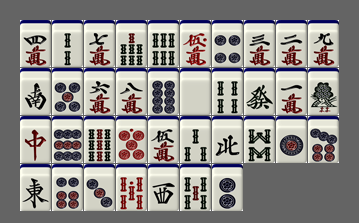0m: (180, 20, 211, 67)
0p: (116, 116, 147, 163)
0s: (116, 164, 147, 211)
1m: (276, 68, 307, 115)
1p: (276, 116, 307, 163)
1s: (308, 68, 339, 115)
1z: (20, 164, 51, 211)
2m: (276, 20, 307, 67)
2p: (212, 164, 243, 211)
2s: (52, 20, 83, 67)
2z: (20, 68, 51, 115)
3m: (244, 20, 275, 67)
3p: (84, 164, 115, 211)
3s: (180, 116, 211, 163)
3z: (148, 164, 179, 211)
4m: (20, 20, 51, 67)
4p: (212, 20, 243, 67)
4s: (212, 68, 243, 115)
4z: (212, 116, 243, 163)
5m: (148, 116, 179, 163)
5p: (52, 68, 83, 115)
5s: (180, 164, 211, 211)
5z: (180, 68, 211, 115)
6m: (84, 68, 115, 115)
6p: (52, 164, 83, 211)
6s: (148, 20, 179, 67)
6z: (244, 68, 275, 115)
7m: (84, 20, 115, 67)
7p: (308, 116, 339, 163)
7s: (116, 20, 147, 67)
7z: (20, 116, 51, 163)
8m: (116, 68, 147, 115)
8p: (148, 68, 179, 115)
8s: (244, 116, 275, 163)
9m: (308, 20, 339, 67)
9p: (52, 116, 83, 163)
9s: (84, 116, 115, 163)
